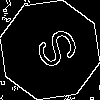S: (25, 25, 81, 77)
